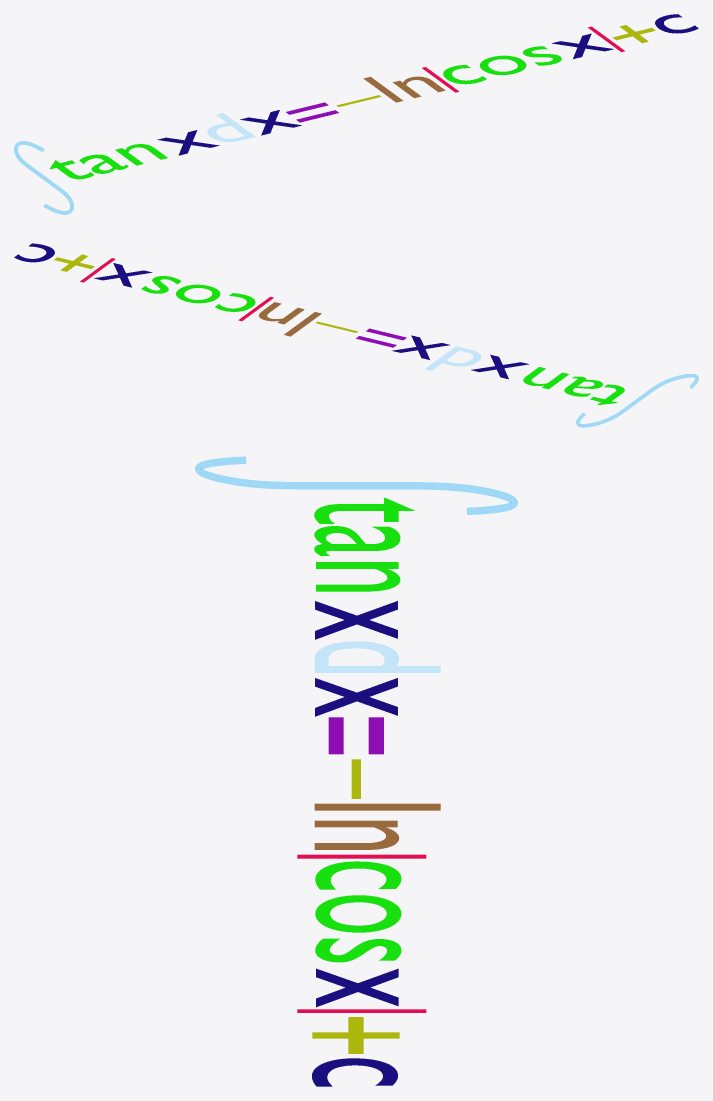
Rendered from inttanx.glb.
The picture shows the model from 3 angles, top to bottom: view 1: azimuth 30°, elevation 25°; view 2: azimuth 150°, elevation 25°; view 3: azimuth 270°, elevation 25°; orthographic projection. The views are drawn at different scales.
Visible parts, largest first — view 1: int din tg x dx.001; view 2: int din tg x dx.001; view 3: int din tg x dx.001.
Part boxes in pixels (x1,y1,x2,y2): int din tg x dx.001: [14, 14, 698, 214]; int din tg x dx.001: [14, 243, 698, 427]; int din tg x dx.001: [195, 456, 517, 1086].
Size of the model in its own units: 8.04 by 0.0401 by 1.75.
